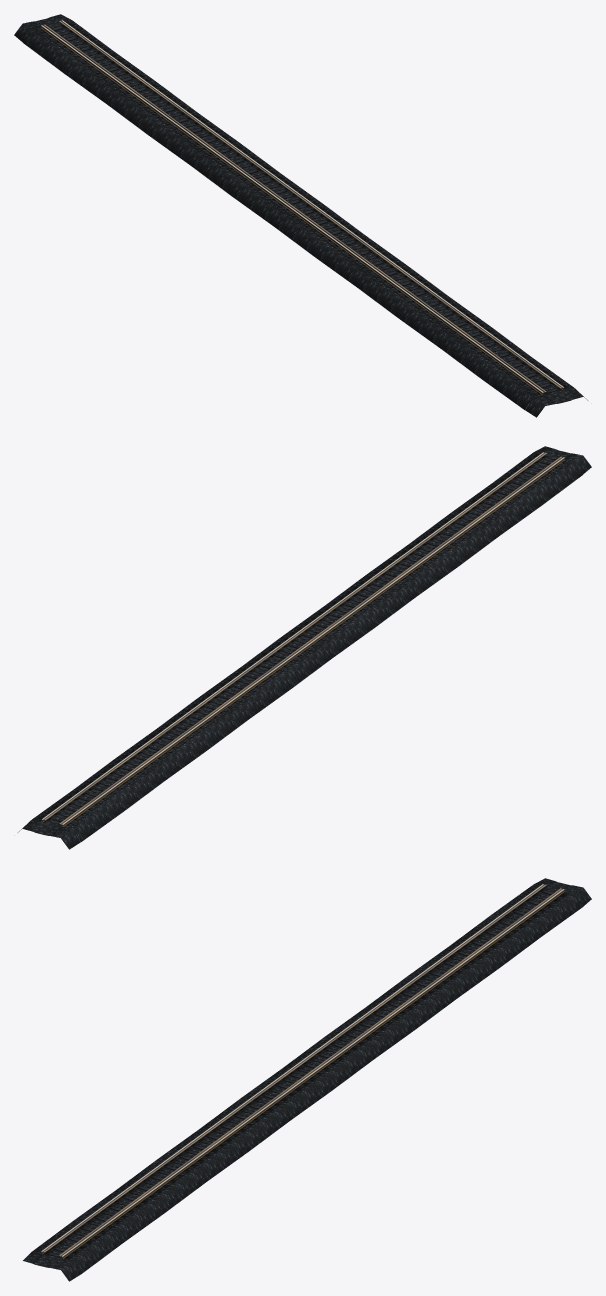
Rendered from SIN_1RAIL_150.glb.
3 renders of one model, top to bottom at view 1: azimuth 30°, elevation 25°; view 2: azimuth 150°, elevation 25°; view 3: azimuth 330°, elevation 25°, orthographic.
Visible parts, largest first — view 1: obj4, R000_RG_R3, R000_RG_L3; view 2: obj4, R000_RG_R3, R000_RG_L3; view 3: obj4, R000_RG_L3, R000_RG_R3.
Boxes of the visible parts, bbox=[...] form: obj4: bbox=[14, 14, 587, 417]; R000_RG_R3: bbox=[43, 24, 546, 393]; R000_RG_L3: bbox=[59, 20, 561, 388]; obj4: bbox=[18, 446, 591, 849]; R000_RG_R3: bbox=[59, 456, 562, 825]; R000_RG_L3: bbox=[44, 452, 546, 821]; obj4: bbox=[23, 878, 591, 1281]; R000_RG_L3: bbox=[59, 888, 561, 1257]; R000_RG_R3: bbox=[44, 884, 546, 1252].
Size of the model in its own units: 10.09 by 2.22 by 156.
Materials: 6 (5 with a texture image).
